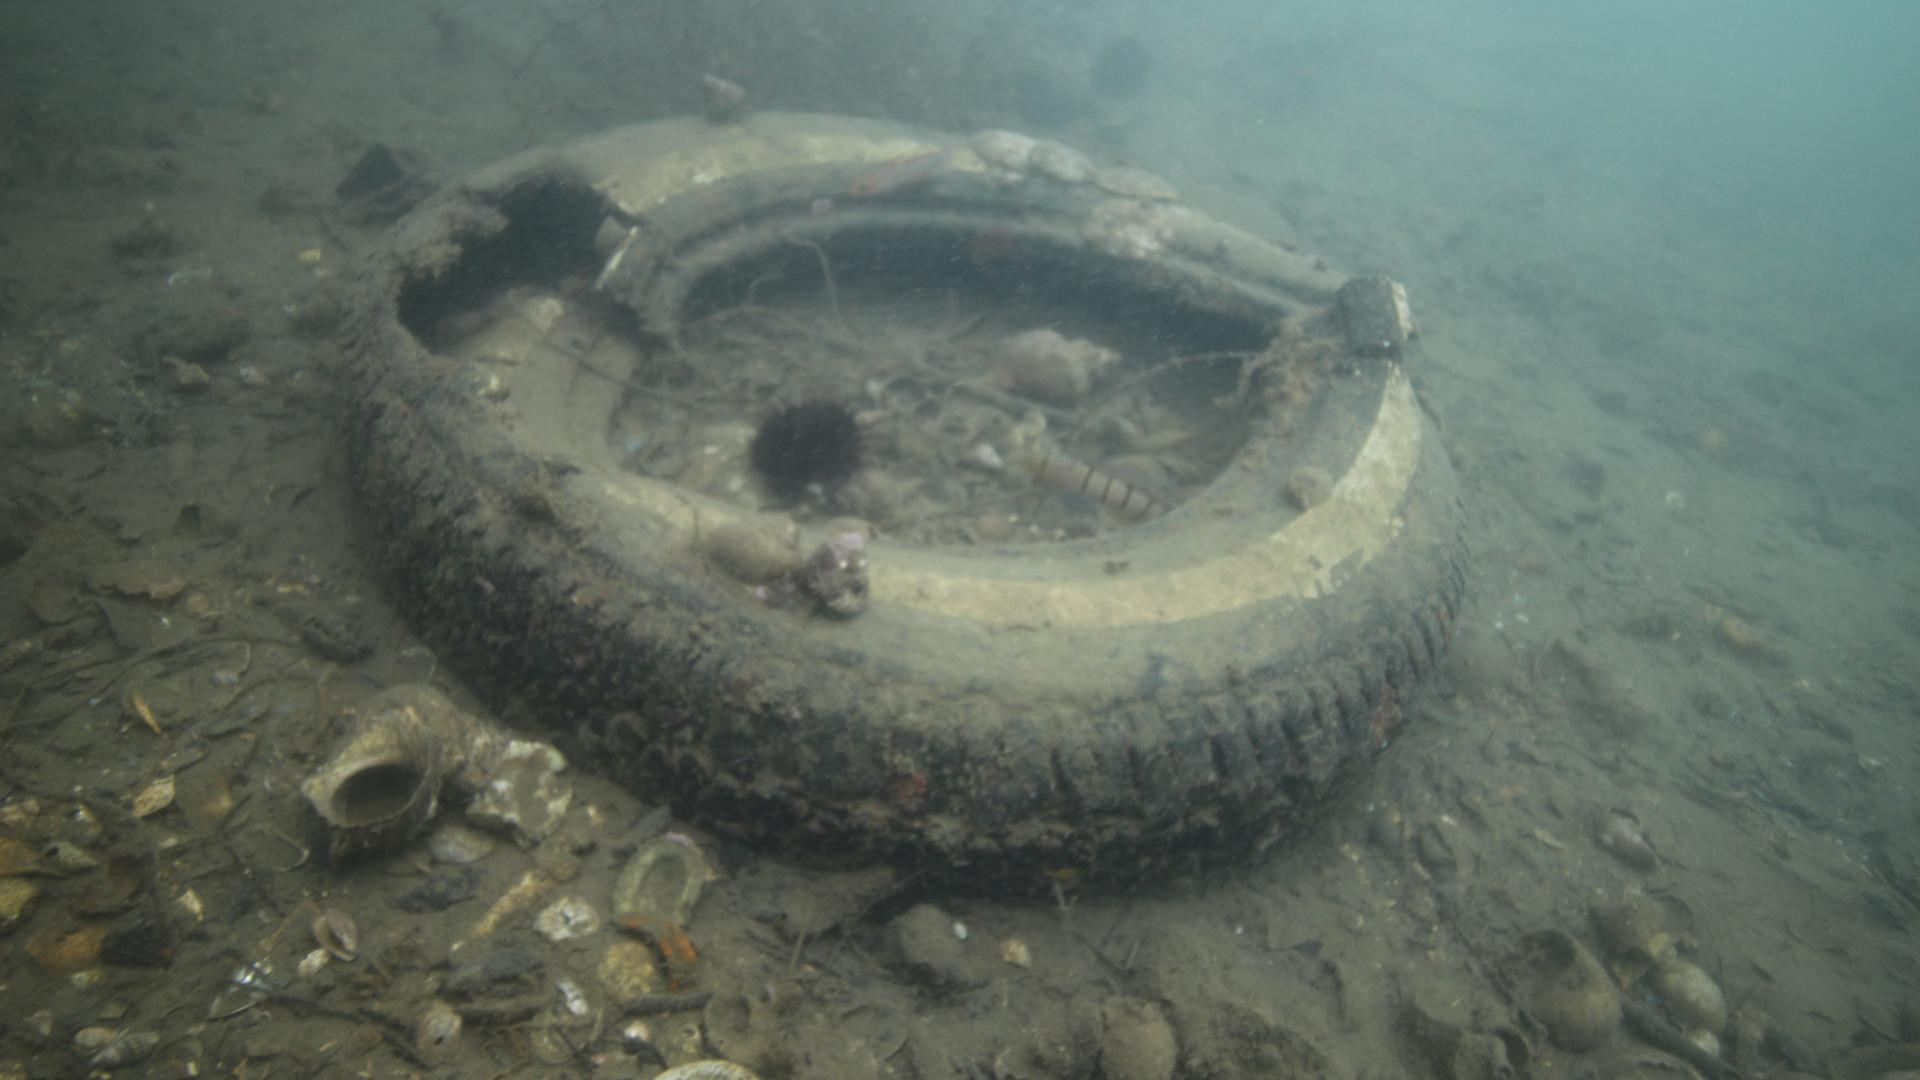tire: (334, 105, 1469, 897)
